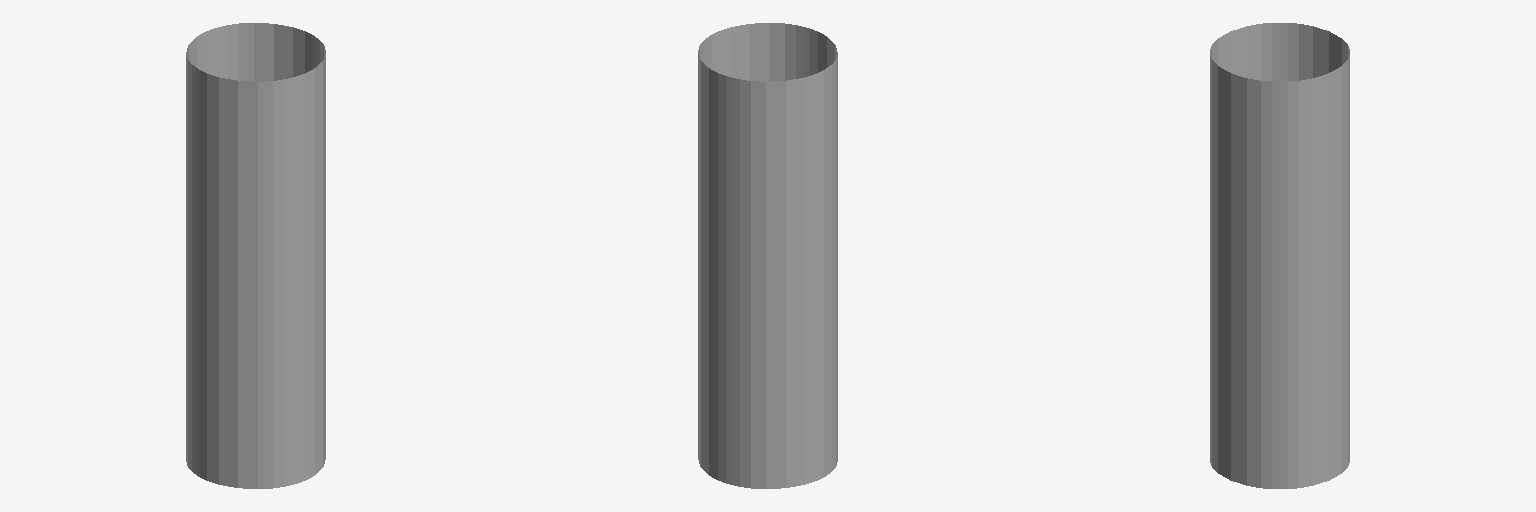
The model's file is Fuselage_broke.obj.
3 views of the same model, side by side, from view 1: azimuth 30°, elevation 25°; view 2: azimuth 150°, elevation 25°; view 3: azimuth 270°, elevation 25° (orthographic).
Size of the model in its own units: 2 by 6.44 by 2.